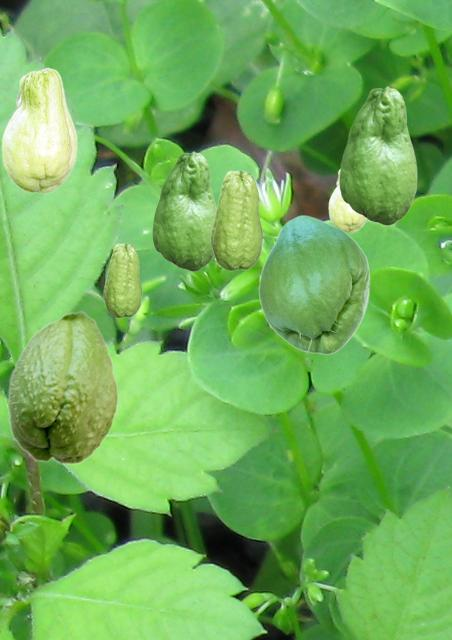sayote: (7, 310, 118, 464), (258, 215, 369, 354), (339, 86, 416, 224), (1, 67, 76, 193), (152, 151, 216, 270), (210, 170, 262, 270), (103, 243, 141, 317), (328, 169, 367, 232)
